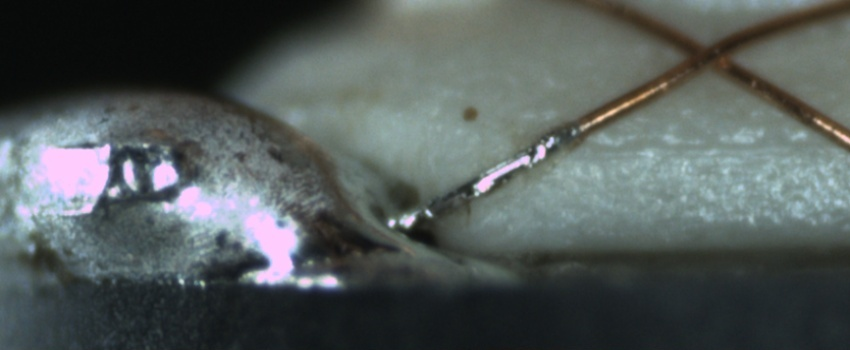CL: (663, 24, 750, 84)
DL: (557, 113, 850, 177)
TS: (392, 124, 579, 233)
TTCW: (391, 112, 595, 235)
